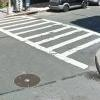Crosswalk: (4, 11, 86, 65)
